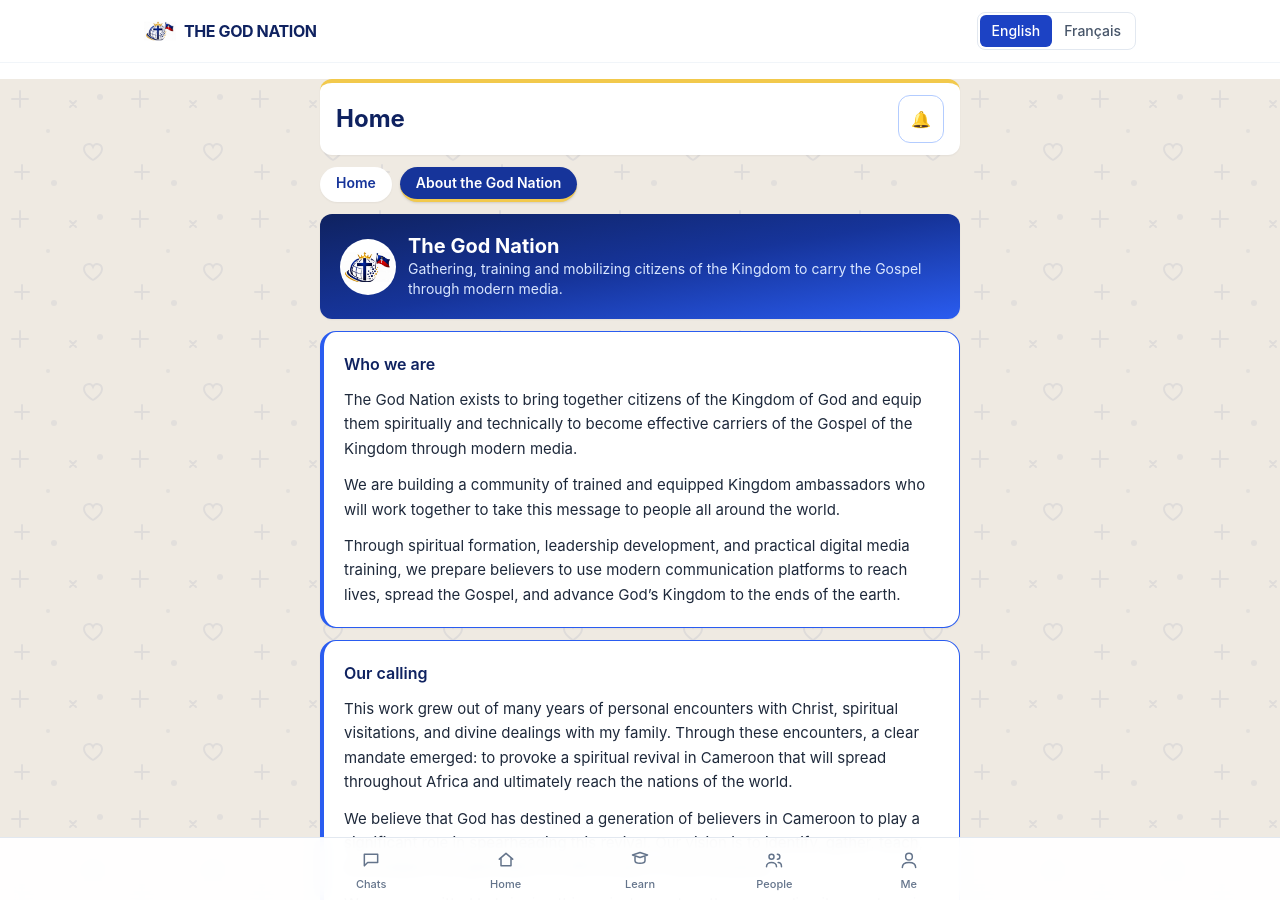
Test: About the God Nation › has Home and About tabs, and the Home tab goes back to the Home page
The width and height of the screenshot is (1280, 900).
Click the link "Home" next to "About the God Nation" at [356, 184], box [320,167,392,202]
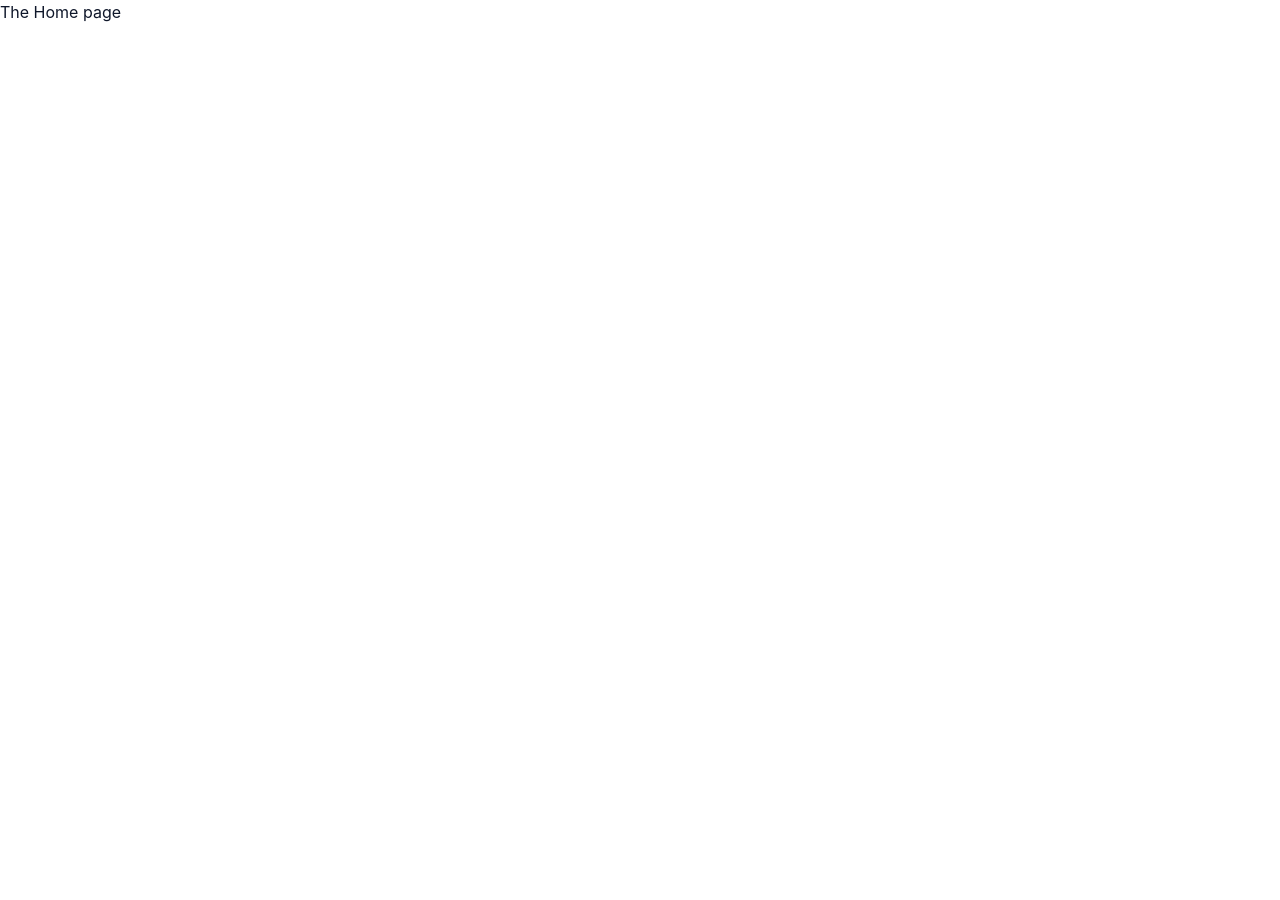
Now the text "The Home page" is shown, box [0,2,121,22]
